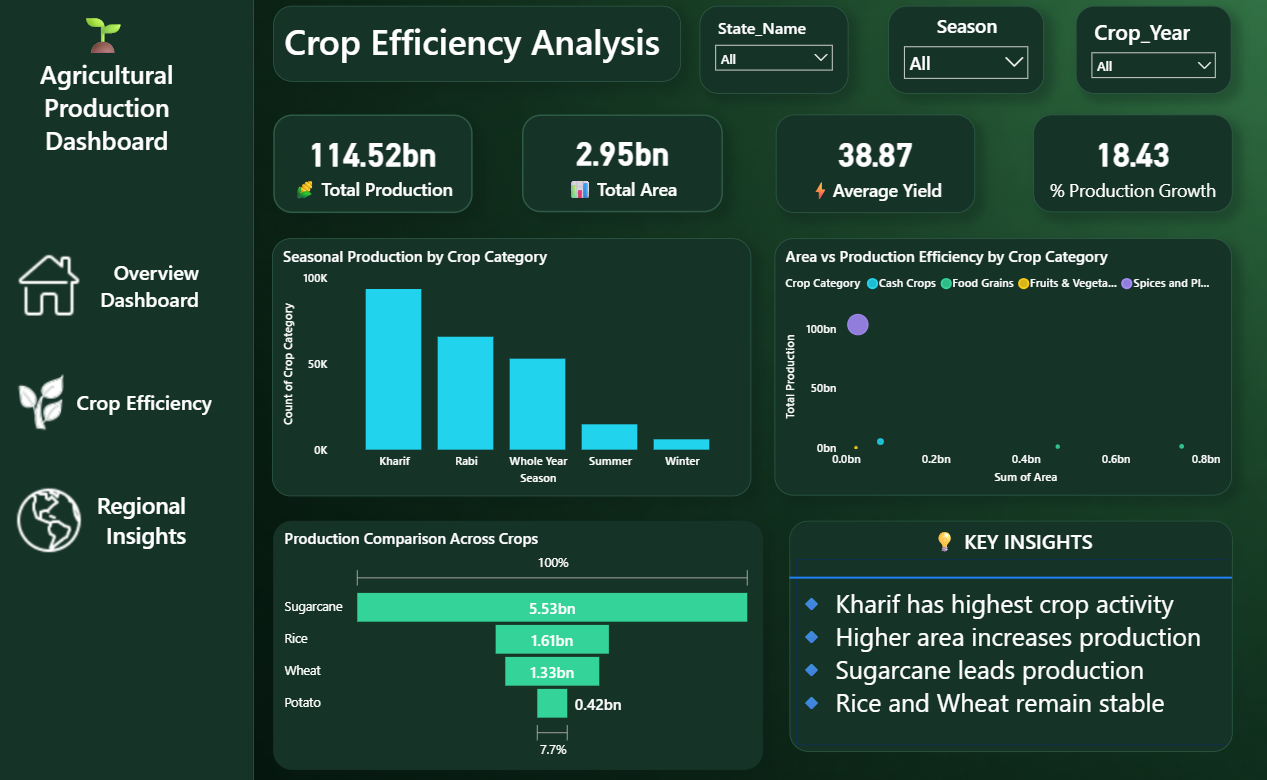

This screenshot's page, from the dashboard's own definition file:
{"tool":"powerbi","page":{"name":"Crop Efficiency Analysis","canvas":[1362,857],"ordinal":1},"visuals":[{"type":"card","fields":{"Values":["Dim_Crop.No Data Message"]},"box":[552.7,261,439.1,279.4],"z":0},{"type":"funnel","title":"Production Comparison Across Crops","fields":{"Category":["Fact_Agriculture.Crop"],"Y":["Fact_Agriculture.Total Production"]},"box":[299,567.5,521,264.5],"z":1000},{"type":"shape","title":"💡 KEY INSIGHTS","box":[848,567.5,471.3,245.6],"z":1000,"group":"g1"},{"type":"shape","box":[848.5,599.2,470.5,57.2],"z":1500,"group":"g1"},{"type":"card","fields":{"Values":["Dim_Crop.Total Production Card"]},"box":[298.4,135.2,211.7,104.6],"z":2000},{"type":"card","fields":{"Values":["Dim_Crop.Total Area Card"]},"box":[563.5,135.6,214,103.7],"z":3000},{"type":"card","fields":{"Values":["Dim_Crop.Average Yield Card"]},"box":[832.8,135.2,211.7,104.6],"z":4000},{"type":"card","fields":{"Values":["Dim_Crop.Production Growth Card"]},"box":[1106.9,135.1,211.9,104.4],"z":5000},{"type":"slicer","fields":{"Values":["Dim_State.State_Name"]},"box":[752.2,20,158.1,93.6],"z":6000},{"type":"slicer","title":"Season","fields":{"Values":["Dim_Season.Season"]},"box":[953.4,20,165.8,93.6],"z":7000},{"type":"slicer","fields":{"Values":["Dim_Year.Crop_Year"]},"box":[1152.9,20,165.8,93.6],"z":8000},{"type":"clusteredColumnChart","title":"Seasonal Production by Crop Category","fields":{"Category":["Dim_Season.Season"],"Y":["CountNonNull(Fact_Agriculture.Crop Category)"]},"box":[297.8,267.1,509.7,274.8],"z":9000},{"type":"scatterChart","title":"Area vs Production Efficiency by Crop Category","fields":{"Category":["Dim_Crop.Crop"],"Series":["Dim_Crop.Crop Category"],"Size":["Fact_Agriculture.Total Production"],"X":["Sum(Fact_Agriculture.Area)"],"Y":["Fact_Agriculture.Total Production"]},"box":[832.1,267.1,486.7,273.3],"z":10000},{"type":"shape","box":[0,0,278.6,857.1],"z":11000},{"type":"actionButton","box":[20,526.6,190.4,81.4],"z":12000},{"type":"actionButton","box":[20,405.3,218,72.2],"z":13000},{"type":"actionButton","box":[20,276.3,204.2,81.4],"z":14000},{"type":"textbox","box":[20,20,204.3,184.3],"z":15000},{"type":"textbox","box":[299,19.9,433.3,81.1],"z":16000},{"type":"group","id":"g1","title":"Group 1","box":[848,567.5,470.5,245.9],"z":17000},{"type":"textbox","box":[848,613.6,471.3,179.6],"z":20000,"group":"g1"}]}

Visuals, with their boxes in screenshot pixels (x1, y1, x2, y2), scaled from the page's 1362x857 canvas onto the 1267x780 screenshot:
card - Dim_Crop.No Data Message: box=[514, 238, 923, 492]
"Production Comparison Across Crops" funnel: box=[278, 517, 763, 757]
"💡 KEY INSIGHTS" shape: box=[789, 517, 1227, 740]
shape: box=[789, 545, 1227, 597]
card - Dim_Crop.Total Production Card: box=[278, 123, 475, 218]
card - Dim_Crop.Total Area Card: box=[524, 123, 723, 218]
card - Dim_Crop.Average Yield Card: box=[775, 123, 972, 218]
card - Dim_Crop.Production Growth Card: box=[1030, 123, 1227, 218]
slicer - Dim_State.State_Name: box=[700, 18, 847, 103]
"Season" slicer: box=[887, 18, 1041, 103]
slicer - Dim_Year.Crop_Year: box=[1072, 18, 1227, 103]
"Seasonal Production by Crop Category" clusteredColumnChart: box=[277, 243, 751, 493]
"Area vs Production Efficiency by Crop Category" scatterChart: box=[774, 243, 1227, 492]
shape: box=[0, 0, 259, 779]
actionButton: box=[19, 479, 196, 553]
actionButton: box=[19, 369, 221, 435]
actionButton: box=[19, 251, 209, 326]
textbox: box=[19, 18, 209, 186]
textbox: box=[278, 18, 681, 92]
"Group 1" group: box=[789, 517, 1227, 740]
textbox: box=[789, 558, 1227, 722]
